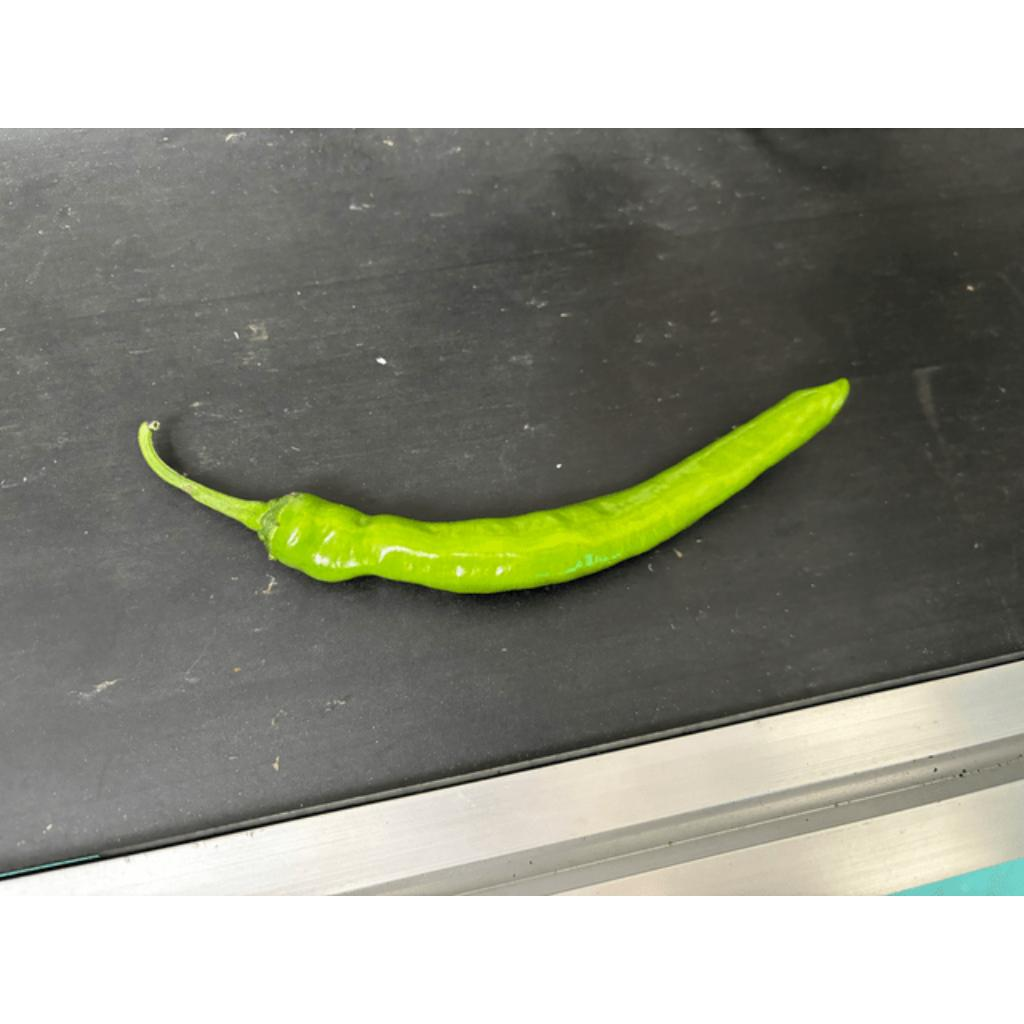chili: (254, 373, 856, 596)
